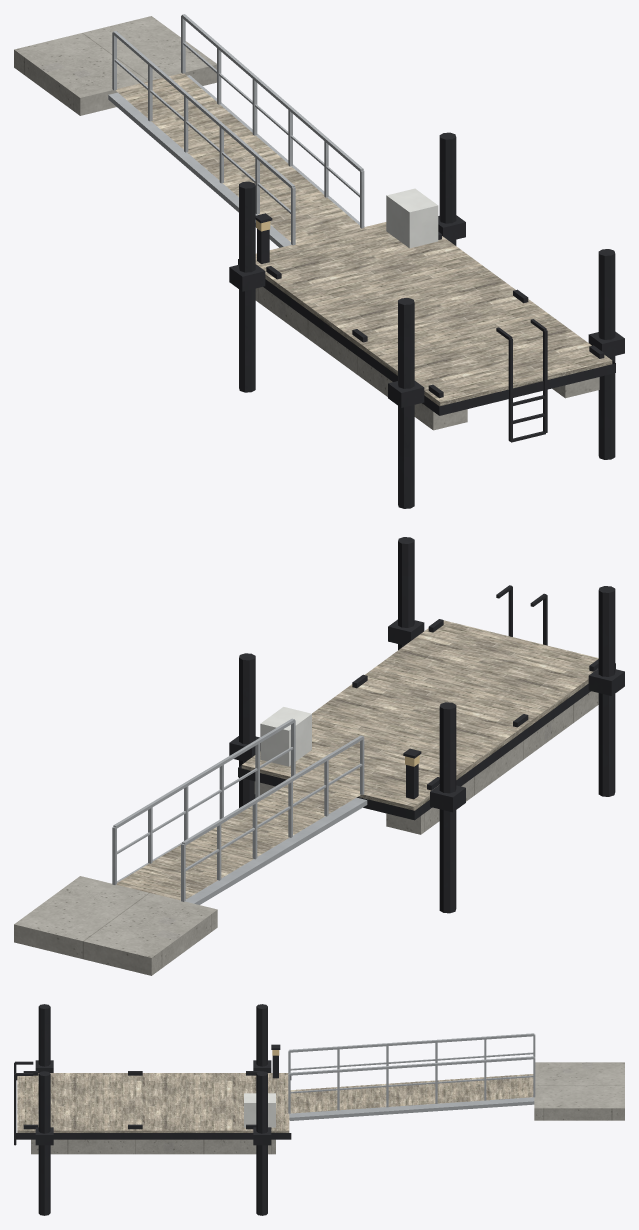
File: desert_float_dock.fbx
3 renders of one model, top to bottom at view 1: azimuth 30°, elevation 25°; view 2: azimuth 150°, elevation 25°; view 3: azimuth 270°, elevation 25°, orthographic. The views are drawn at different scales.
Visible parts, largest first — view 1: desert_float_dock_LOD0; view 2: desert_float_dock_LOD0; view 3: desert_float_dock_LOD0.
Boxes of the visible parts, x1,y1,x2,y2 form: desert_float_dock_LOD0: (14, 14, 624, 508); desert_float_dock_LOD0: (14, 537, 624, 975); desert_float_dock_LOD0: (14, 1004, 624, 1215).
Size of what is drawn, in the model's own units: 3.9 by 3.4 by 13.47.
1 material, 1 textured.
